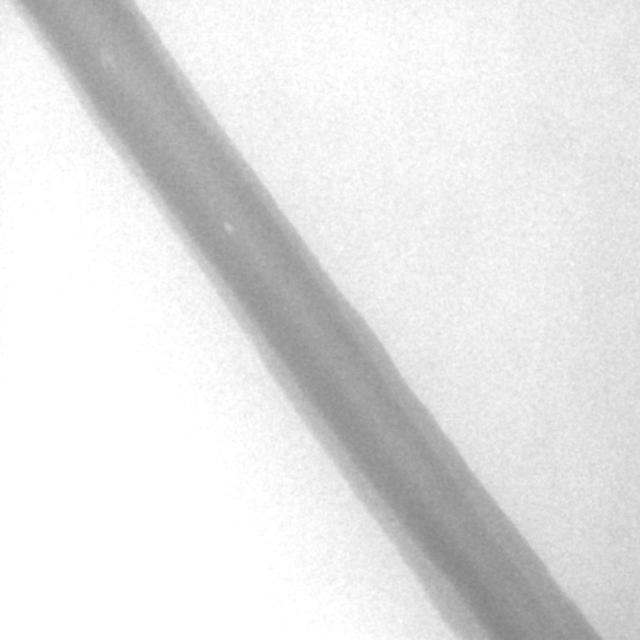air hole: (221, 220, 235, 237)
